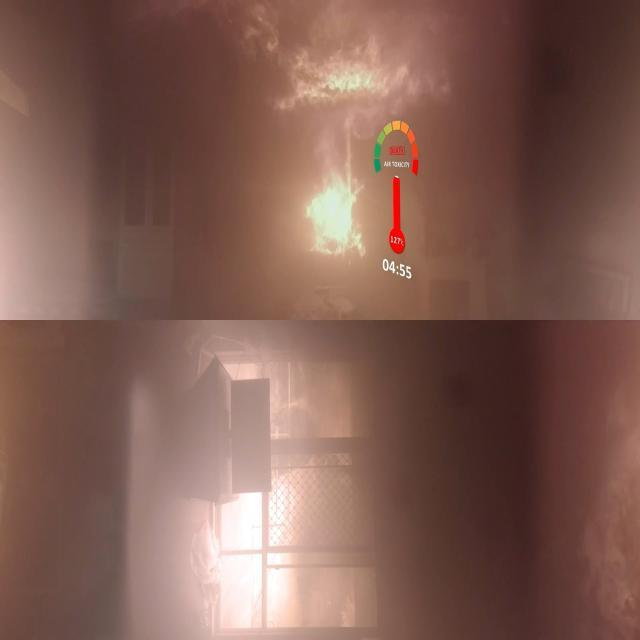Fire: (255, 18, 430, 104), (297, 182, 372, 254)
